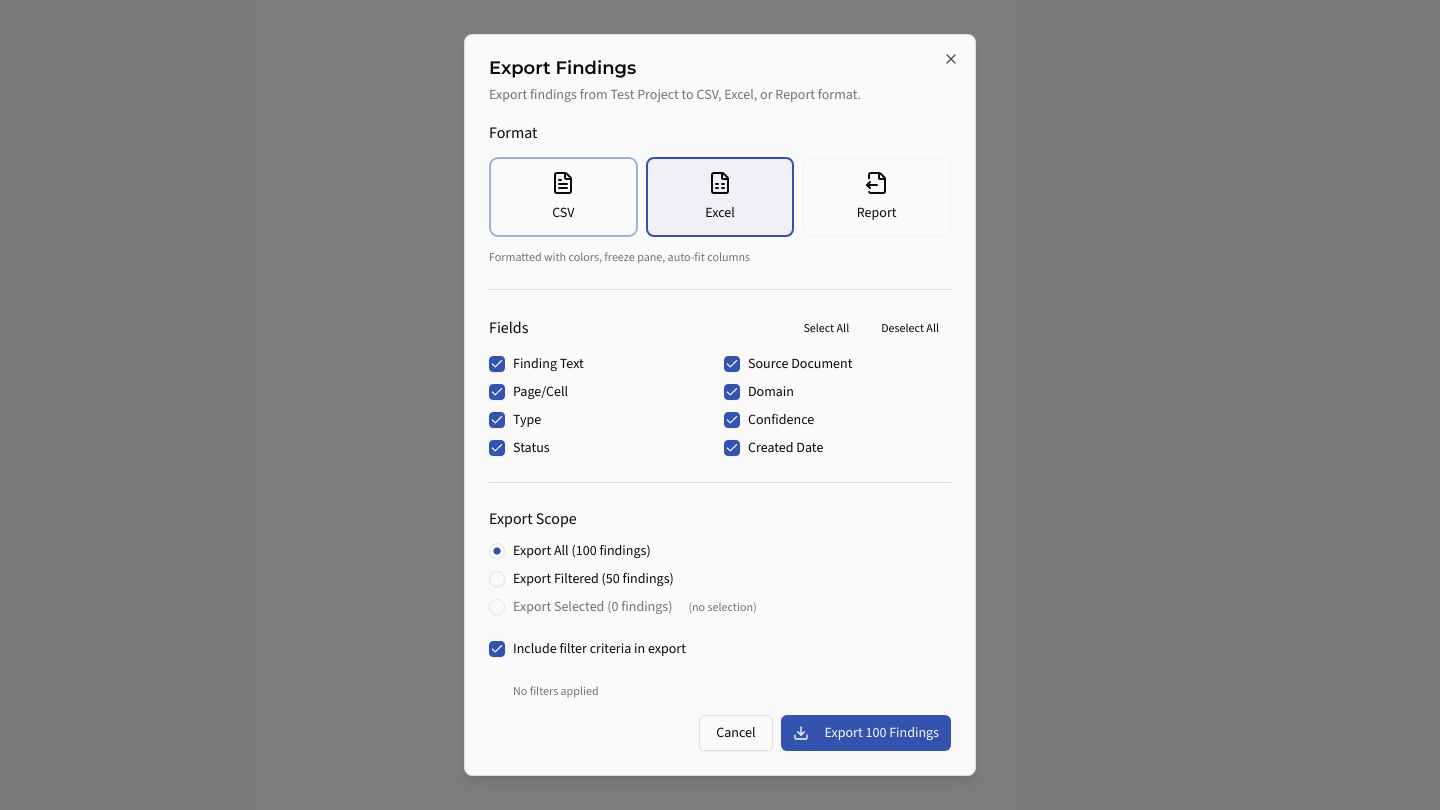
ExportModal › Field Selection › shows error when no fields selected
This screenshot has width=1440, height=810.
Click the button "Deselect All".
click(910, 328)  # box [869,314,951,342]
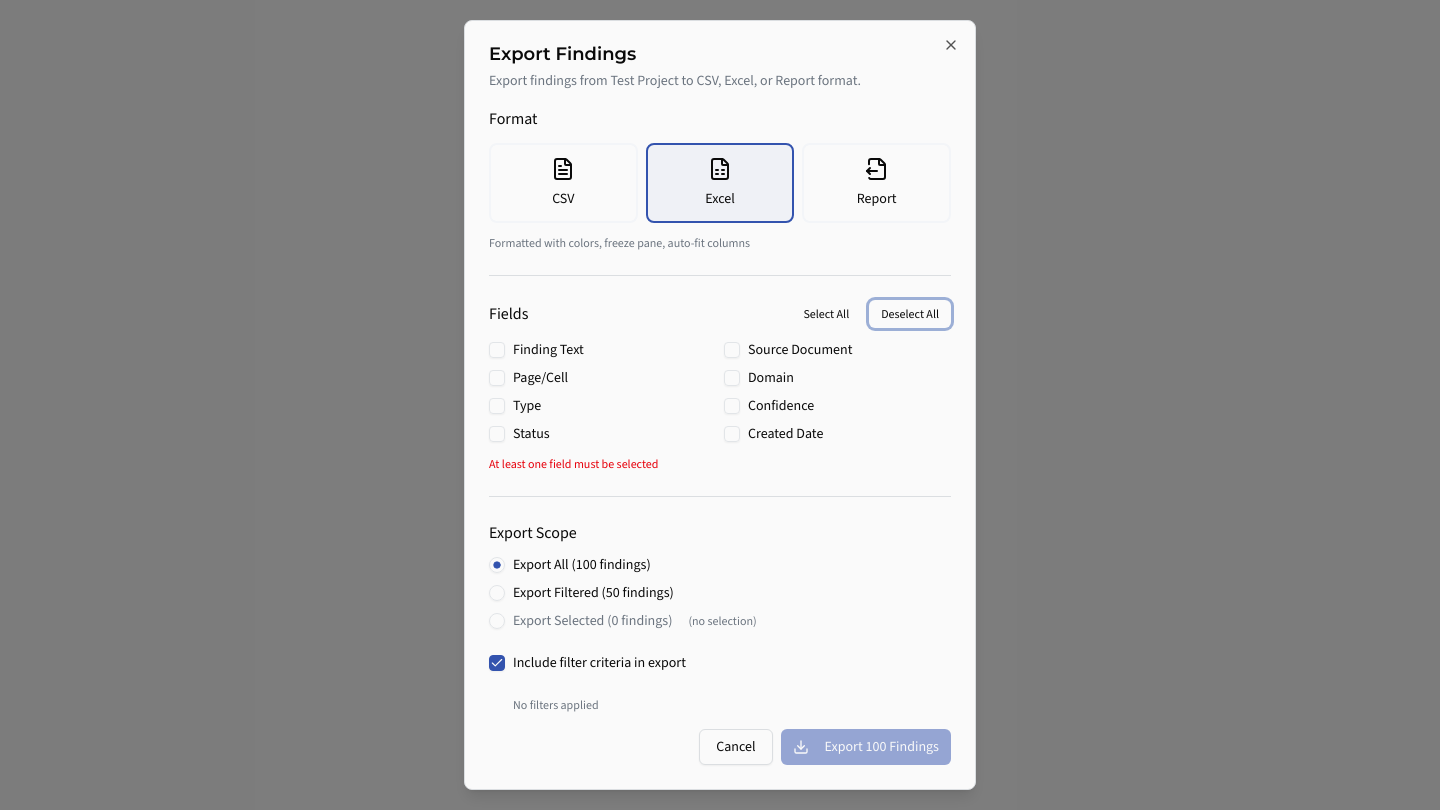
Check: the text "At least one field must be selected" is shown, box [489,456,658,472]
